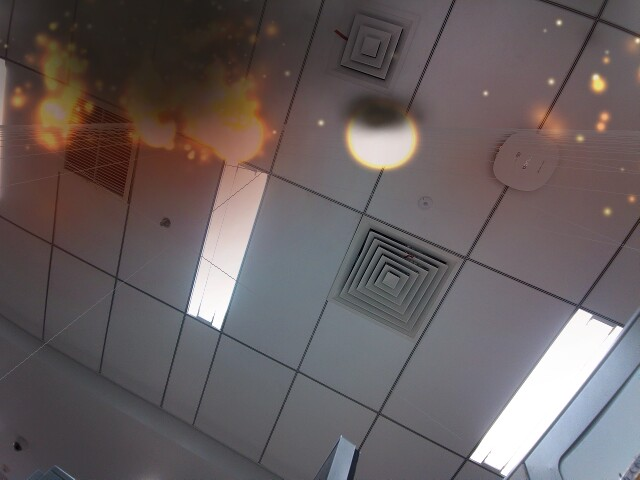fire: (342, 100, 417, 171), (213, 116, 265, 162), (133, 108, 180, 151)
